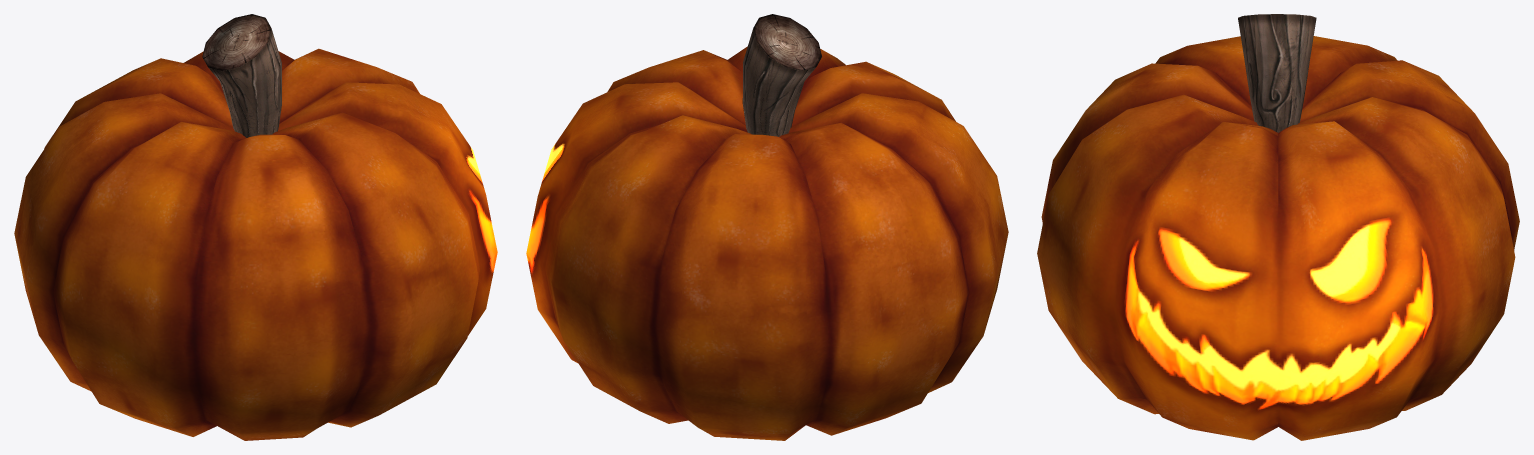
Rendered from pumpkin_lowpoly.glb.
3 renders of one model, left to right at view 1: azimuth 30°, elevation 25°; view 2: azimuth 150°, elevation 25°; view 3: azimuth 270°, elevation 25°, orthographic. The views are drawn at different scales.
Visible parts, largest first — view 1: pSphere4, pCylinder3; view 2: pSphere4, pCylinder3; view 3: pSphere4, pCylinder3.
Part boxes in pixels (x1=…): pSphere4: x1=14, y1=48, x2=497, y2=440; pCylinder3: x1=202, y1=14, x2=281, y2=137; pSphere4: x1=526, y1=46, x2=1008, y2=440; pCylinder3: x1=742, y1=14, x2=821, y2=136; pSphere4: x1=1037, y1=36, x2=1519, y2=440; pCylinder3: x1=1238, y1=14, x2=1316, y2=132.
Bounding box in the file's own units: 3.77 × 3.17 × 3.68.
Materials: 2 (2 with a texture image).
